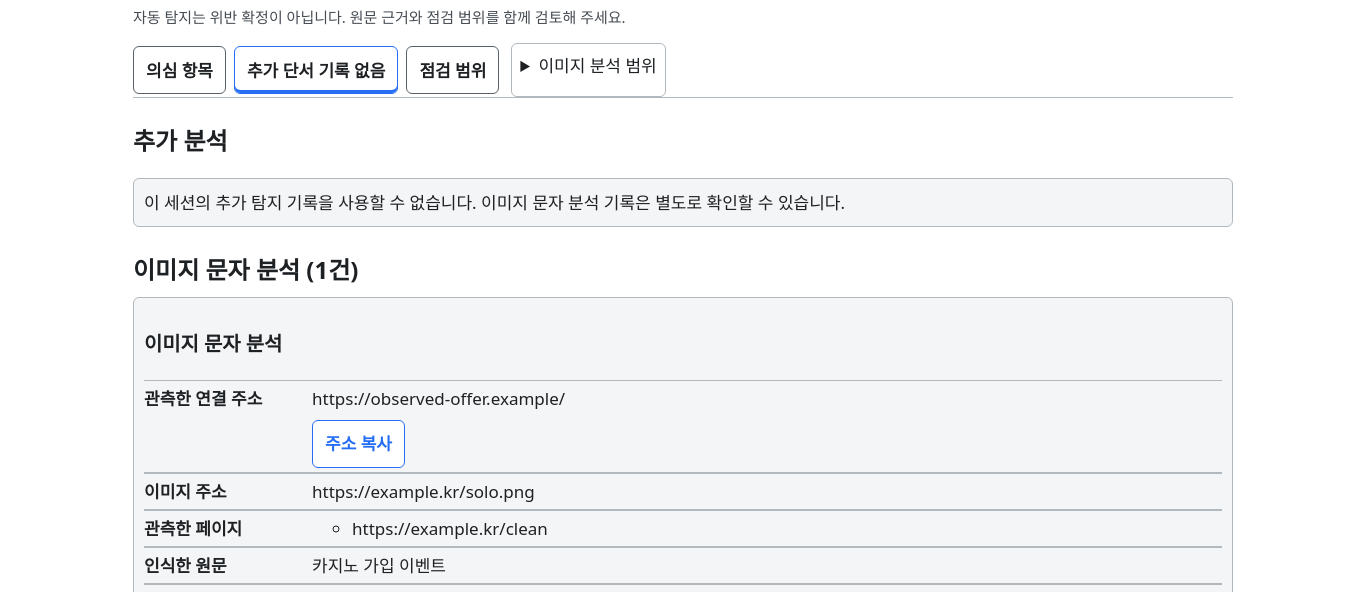
Scenario: stored OCR and partial coverage presentation › keeps the address selectable when clipboard is denied
The width and height of the screenshot is (1366, 592).
Click the button with aria-label "관측한 연결 주소 복사": (358, 444) [312,420,405,468]
(page scrolled)
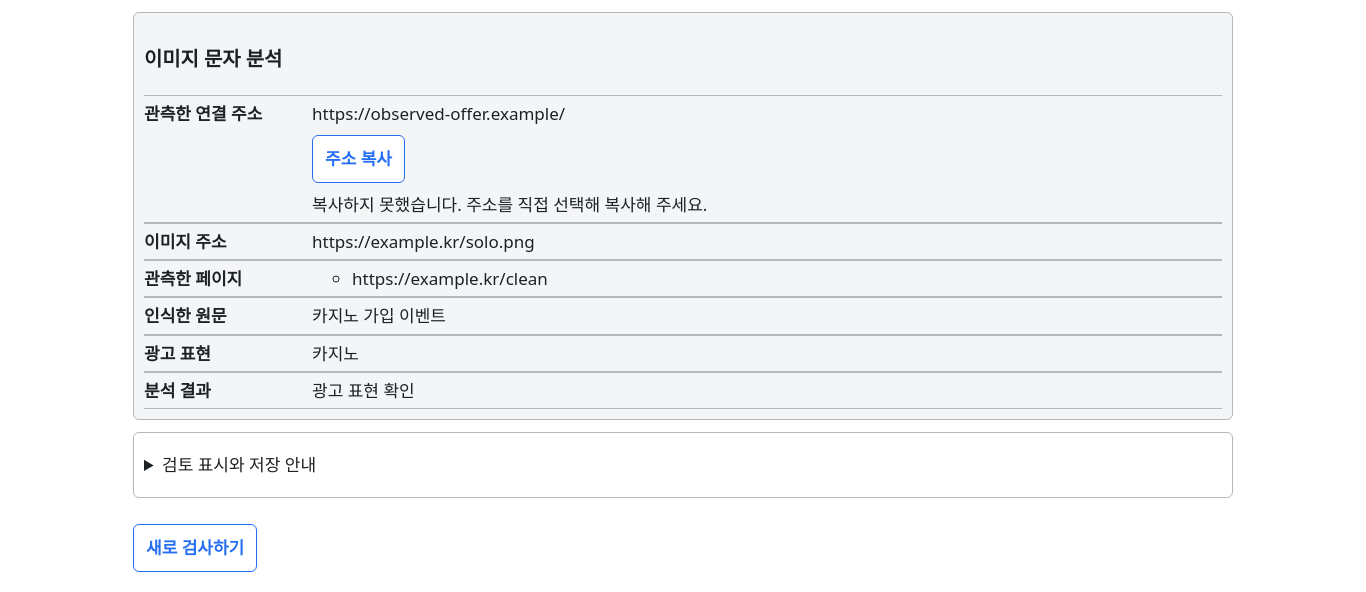
Expected: the text "https://observed-offer.example/" is shown, [312,102,565,125]
Expected: the text "복사하지 못했습니다. 주소를 직접 선택해 복사해 주세요." is shown, [312,193,707,216]
